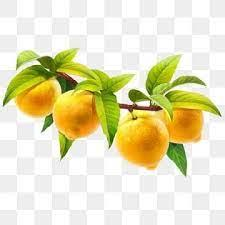lemon: (115, 111, 168, 170), (52, 89, 99, 139), (15, 78, 62, 117), (155, 108, 203, 142)
